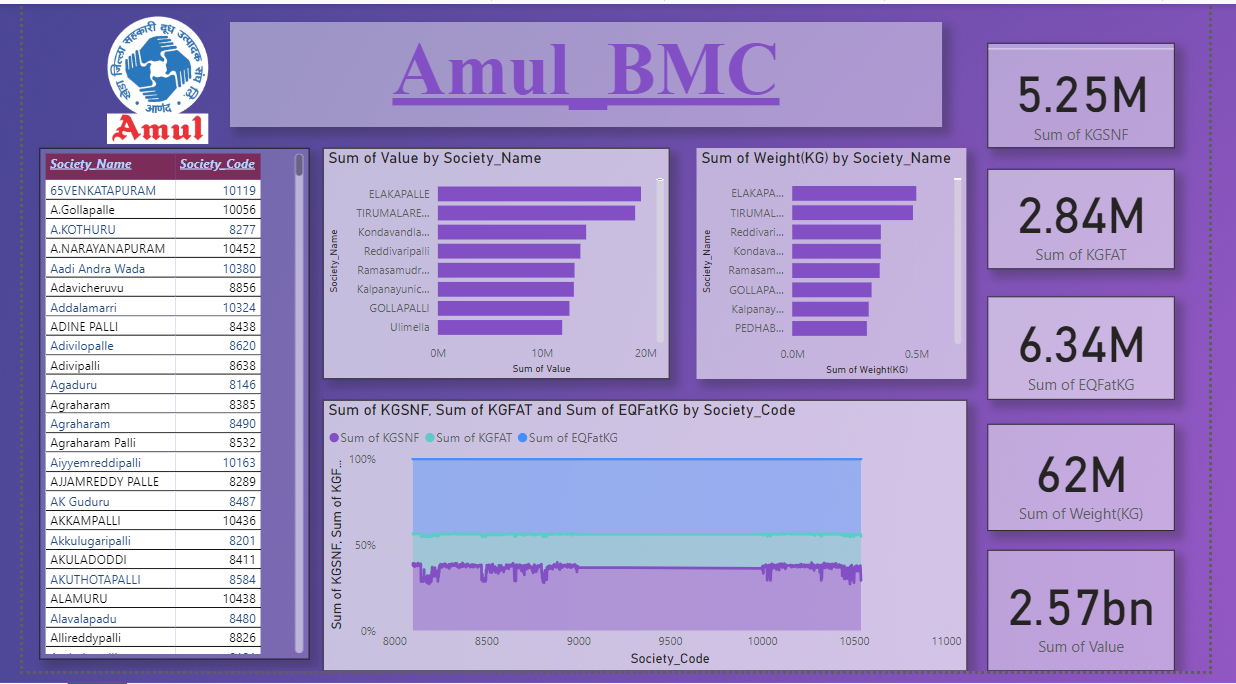

This screenshot's page, from the dashboard's own definition file:
{"tool":"powerbi","page":{"name":"Page 1","canvas":[1280,720],"ordinal":0},"visuals":[{"type":"card","fields":{"Values":["Sum(Sheet1.KGSNF)"]},"box":[1041.3,41.6,202.2,113.4],"z":0},{"type":"card","fields":{"Values":["Sum(Sheet1.KGFAT)"]},"box":[1041.3,177.6,202.2,107.7],"z":1000},{"type":"card","fields":{"Values":["Sum(Sheet1.EQFatKG)"]},"box":[1041.3,315.6,202.2,111.5],"z":2000},{"type":"card","fields":{"Values":["Sum(Sheet1.Weight(KG))"]},"box":[1041.3,453.5,202.2,115.3],"z":3000},{"type":"card","fields":{"Values":["Sum(Sheet1.Value)"]},"box":[1041.3,589.6,202.2,130.4],"z":4000},{"type":"barChart","fields":{"Y":["Sum(Sheet1.Weight(KG))"],"Category":["Sheet1.Society_Name"]},"box":[727.6,155,291,249.5],"z":5000},{"type":"tableEx","fields":{"Values":["Sheet1.Society_Name","Sheet1.Society_Code"]},"box":[17,155,291,551.8],"z":6000},{"type":"clusteredBarChart","fields":{"Category":["Sheet1.Society_Name"],"Y":["Sum(Sheet1.Value)"]},"box":[323.2,155,374.2,249.5],"z":7000},{"type":"hundredPercentStackedAreaChart","fields":{"Category":["Sheet1.Society_Code"],"Y":["Sum(Sheet1.KGSNF)","Sum(Sheet1.KGFAT)","Sum(Sheet1.EQFatKG)"]},"box":[323.2,427.1,695.4,292.9],"z":8000},{"type":"textbox","box":[222.7,18.9,768.5,113.5],"z":9000},{"type":"image","box":[0,5.8,291.1,149.9],"z":10000}]}

Visuals, with their boxes in screenshot pixels (x1, y1, x2, y2), scaled from the page's 1280x720 canvas onto the 1236x684 screenshot:
card - Sum(Sheet1.KGSNF): 1006,40,1201,147
card - Sum(Sheet1.KGFAT): 1006,169,1201,271
card - Sum(Sheet1.EQFatKG): 1006,300,1201,406
card - Sum(Sheet1.Weight(KG)): 1006,431,1201,540
card - Sum(Sheet1.Value): 1006,560,1201,683
barChart - Sum(Sheet1.Weight(KG)) x Sheet1.Society_Name: 703,147,984,384
tableEx - Sheet1.Society_Name x Sheet1.Society_Code: 16,147,297,671
clusteredBarChart - Sheet1.Society_Name x Sum(Sheet1.Value): 312,147,673,384
hundredPercentStackedAreaChart - Sheet1.Society_Code x Sum(Sheet1.KGSNF): 312,406,984,683
textbox: 215,18,957,126
image: 0,6,281,148
